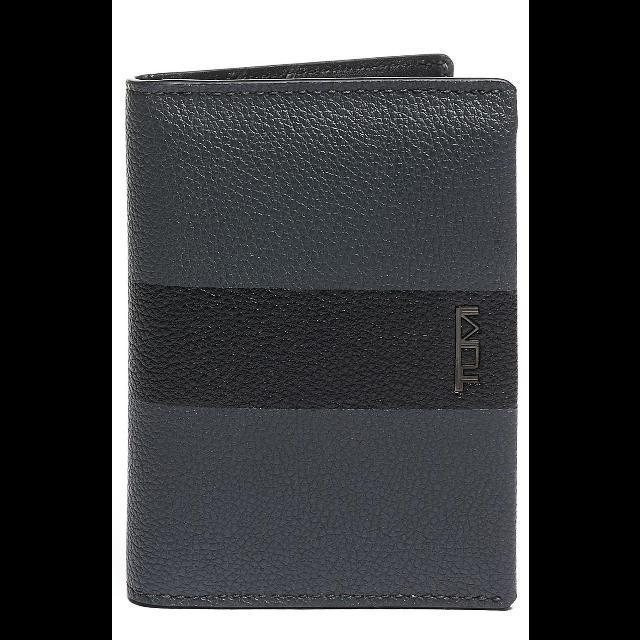wallet: (119, 49, 519, 613)
